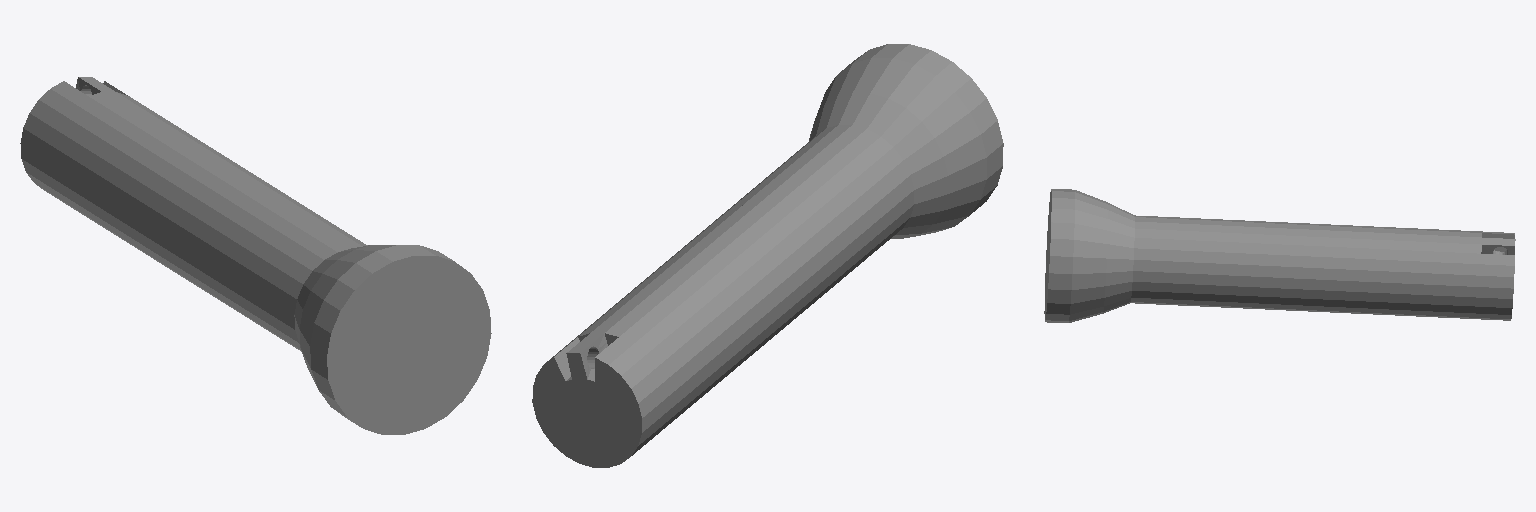
URDF robot description (cube.urdf):
<?xml version="0.0" ?> 
<robot name="cube.urdf"> 
<link name="legobrick"> 
<contact> 
<lateral_friction value="1.0"/>
<rolling_friction value="0.0"/>
<contact_cfm value="0.0"/>
<contact_erp value="1.0"/>
</contact> 
<inertial> 
<origin rpy="0 0 0" xyz="0.0 0.0 0.0"/> 
<mass value="0.1"/> 
<inertia ixx="1" ixy="0" ixz="0" iyy="1" iyz="0" izz="1"/> 
</inertial> 
<visual> 
<origin rpy="1.570796 0 0" xyz="-0.0009418204134366935 0.029220142118863132 -0.00045498320413436464"/> 
<geometry> 
<mesh filename="7bb8e545ba3edcb69479fe86f9aab0a3_1.obj" scale="1 1 1"/> 
</geometry> 
<material name="yellow"> 
<color rgba="0.6 0.6 0.6 1"/> 
</material> 
</visual> 
<collision> 
<origin rpy="1.570796 0 0" xyz="-0.0009418204134366935 0.029220142118863132 -0.00045498320413436464"/> 
<geometry> 
<mesh filename="7bb8e545ba3edcb69479fe86f9aab0a3_1_col.obj" scale="1 1 1"/> 
</geometry> 
</collision> 
</link> 
</robot>

--- What the picture shows (computed from the rendered views, not written in the file) ---
Views: 3 orthographic renders of the robot side by side, from view 1: azimuth 30°, elevation 25°; view 2: azimuth 150°, elevation 25°; view 3: azimuth 270°, elevation 25°.
Model cube.urdf with 1 links and 0 joints (none), rooted at legobrick, posed every joint at zero.
Links seen in each view (by area): view 1: legobrick; view 2: legobrick; view 3: legobrick.
Link boxes in pixels (x1,y1,x2,y2): legobrick: (20, 77, 491, 434); legobrick: (532, 44, 1003, 467); legobrick: (1044, 189, 1515, 322).
Size in the robot's own frame: 0.0444 by 0.1567 by 0.045 metres.
1 mesh visuals loaded from 1 distinct referenced files (1 OBJ).